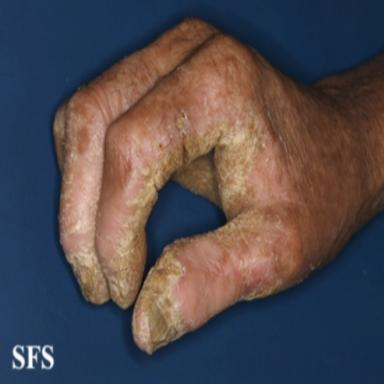Darier_s-Disease: (54, 94, 285, 354)
